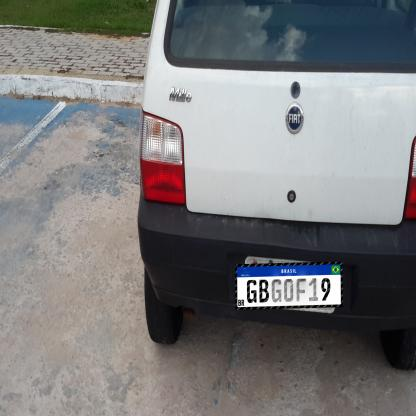PlacaM: (235, 262, 343, 310)
